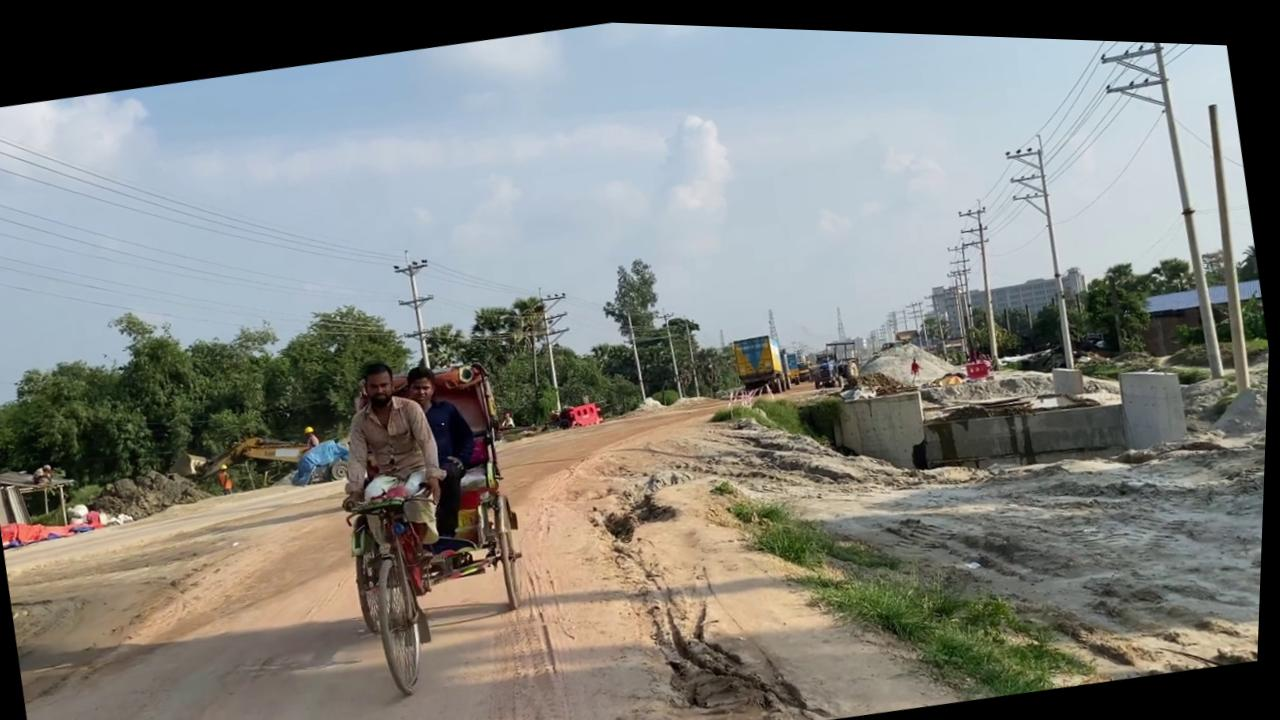Construction-barrier: (558, 394, 608, 426)
Muddy road: (0, 273, 1272, 720)
Pole: (1188, 91, 1267, 382), (624, 302, 652, 396)
Railroad-crossing: (318, 346, 555, 702)
Traffic-sign: (594, 248, 679, 402)
Tree: (296, 417, 357, 484), (808, 329, 865, 385), (784, 340, 817, 379)
